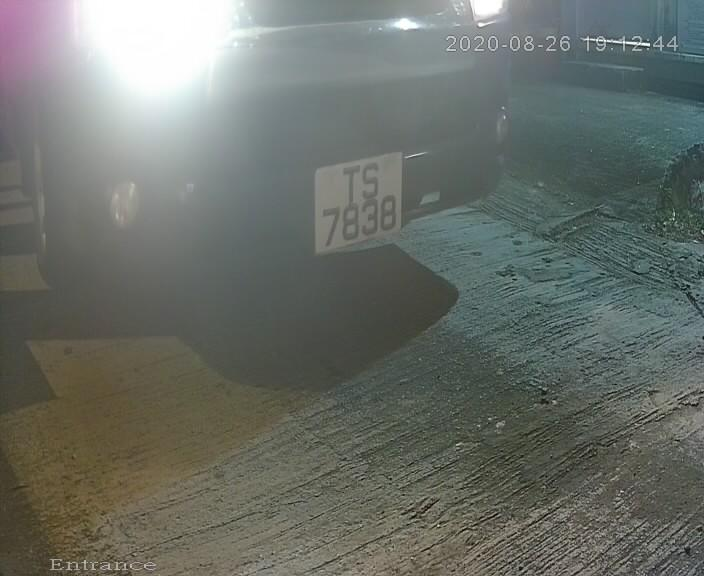License Plate: (302, 139, 415, 260)
